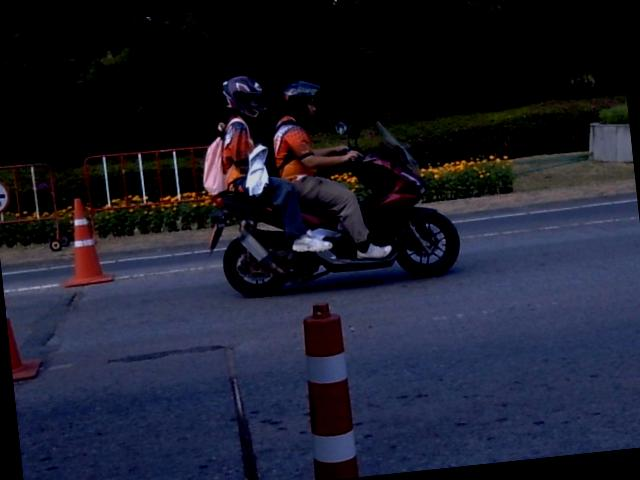helmet: (222, 76, 265, 117), (280, 82, 320, 122)
motor: (209, 122, 458, 296)
person: (272, 80, 391, 258), (221, 75, 265, 191), (261, 178, 331, 250)
